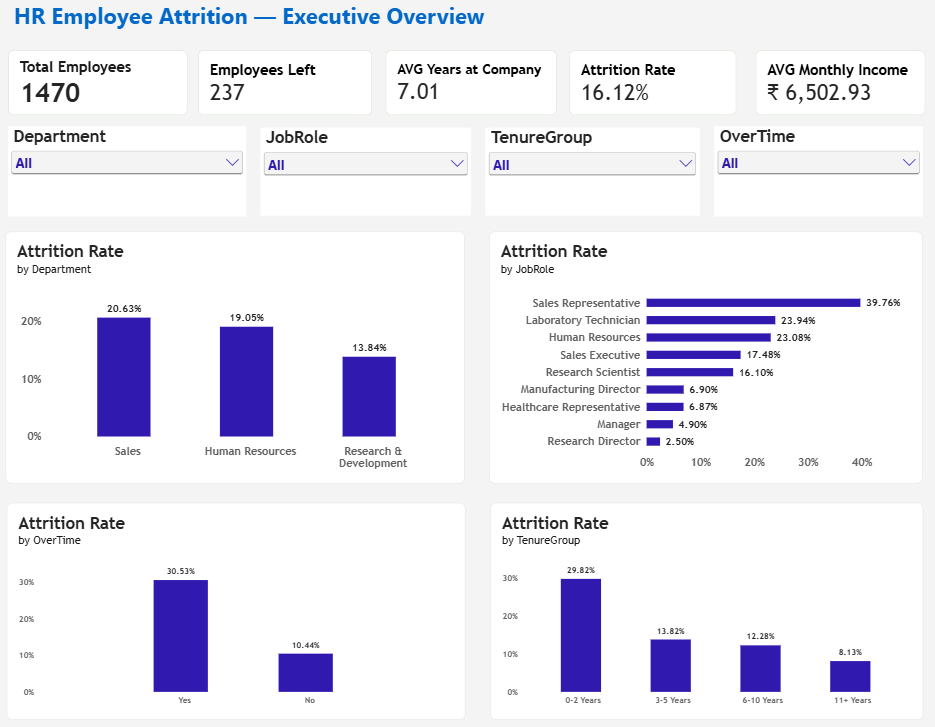

What the dashboard file says about the page in this screenshot:
{"tool":"powerbi","page":{"name":"Executive Overview","canvas":[1920,1080],"ordinal":0},"visuals":[{"type":"cardVisual","fields":{"Data":["Employee Data.Total Employees"]},"box":[116,88,260,94],"z":0},{"type":"cardVisual","fields":{"Data":["Employee Data.Employees Left"]},"box":[390,88,252,94],"z":1000},{"type":"cardVisual","fields":{"Data":["Employee Data.Attrition Rate"]},"box":[928,88,242,94],"z":2000},{"type":"cardVisual","fields":{"Data":["Employee Data.Average Monthly Income"]},"box":[1198,88,246,94],"z":3000},{"type":"cardVisual","fields":{"Data":["Employee Data.Average Years at Company"]},"box":[662,88,248,94],"z":4000},{"type":"clusteredColumnChart","fields":{"Category":["Employee Data.Department"],"Y":["Employee Data.Attrition Rate"]},"box":[113,351.4,665,365],"z":5000},{"type":"clusteredBarChart","fields":{"Category":["Employee Data.JobRole"],"Y":["Employee Data.Attrition Rate"]},"box":[813,351.4,627.5,365],"z":6000},{"type":"clusteredColumnChart","fields":{"Category":["Employee Data.OverTime"],"Y":["Employee Data.Attrition Rate"]},"box":[114,744,664,314],"z":7000},{"type":"clusteredColumnChart","fields":{"Category":["Employee Data.TenureGroup"],"Y":["Employee Data.Attrition Rate"]},"box":[814,744,626,314],"z":8000},{"type":"slicer","fields":{"Values":["Employee Data.Department"]},"box":[115.5,199.3,345,130],"z":9000},{"type":"slicer","fields":{"Values":["Employee Data.JobRole"]},"box":[480.5,201.8,305,127.5],"z":10000},{"type":"slicer","fields":{"Values":["Employee Data.OverTime"]},"box":[1138,199.3,302.5,130],"z":11000},{"type":"slicer","fields":{"Values":["Employee Data.TenureGroup"]},"box":[808,201.8,310,127.5],"z":12000},{"type":"textbox","box":[115.5,16.9,698.6,54.9],"z":13000}]}

Visuals, with their boxes on the page's 1920x1080 design canvas (x1, y1, x2, y2). These are canvas units, not pixel positions in the 935x727 screenshot, which may show the page scaled, cropped or inside an application window:
cardVisual - Employee Data.Total Employees: (116,88,376,182)
cardVisual - Employee Data.Employees Left: (390,88,642,182)
cardVisual - Employee Data.Attrition Rate: (928,88,1170,182)
cardVisual - Employee Data.Average Monthly Income: (1198,88,1444,182)
cardVisual - Employee Data.Average Years at Company: (662,88,910,182)
clusteredColumnChart - Employee Data.Department x Employee Data.Attrition Rate: (113,351,778,716)
clusteredBarChart - Employee Data.JobRole x Employee Data.Attrition Rate: (813,351,1440,716)
clusteredColumnChart - Employee Data.OverTime x Employee Data.Attrition Rate: (114,744,778,1058)
clusteredColumnChart - Employee Data.TenureGroup x Employee Data.Attrition Rate: (814,744,1440,1058)
slicer - Employee Data.Department: (116,199,460,329)
slicer - Employee Data.JobRole: (480,202,786,329)
slicer - Employee Data.OverTime: (1138,199,1440,329)
slicer - Employee Data.TenureGroup: (808,202,1118,329)
textbox: (116,17,814,72)
